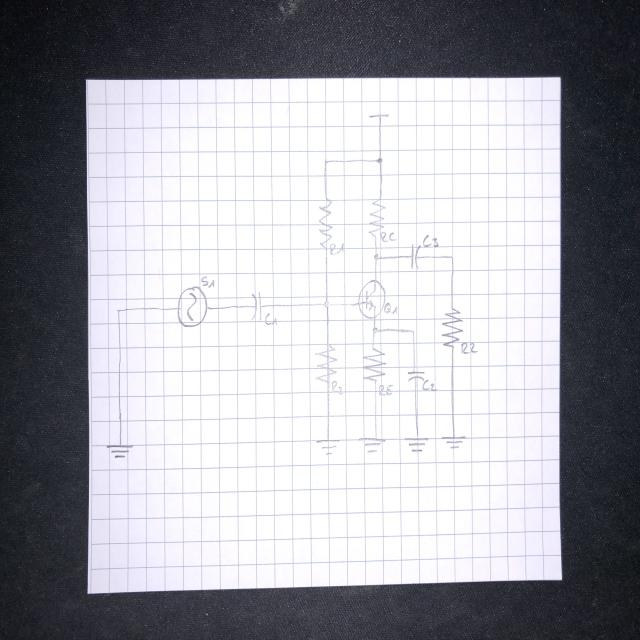capacitor: (249, 289, 265, 323), (408, 242, 422, 270), (406, 369, 426, 382)
ground: (357, 435, 388, 456), (401, 435, 429, 455), (315, 438, 341, 458), (106, 442, 134, 460), (439, 435, 467, 451)
junction: (322, 298, 331, 310), (376, 156, 384, 166), (115, 308, 123, 317), (408, 328, 416, 337), (373, 252, 380, 261), (323, 158, 329, 168), (448, 254, 455, 262), (372, 325, 378, 334)
resistor: (441, 305, 464, 350), (362, 342, 386, 385), (316, 341, 337, 388), (318, 196, 333, 253), (368, 196, 384, 242)
source: (175, 285, 210, 328), (368, 112, 391, 126)
text: (383, 299, 398, 316), (423, 234, 439, 249), (461, 340, 477, 355), (421, 378, 438, 392), (378, 231, 397, 243), (378, 383, 394, 397), (330, 380, 344, 396), (264, 312, 278, 328), (330, 242, 346, 255), (202, 276, 216, 288)
transistor: (356, 277, 388, 321)
